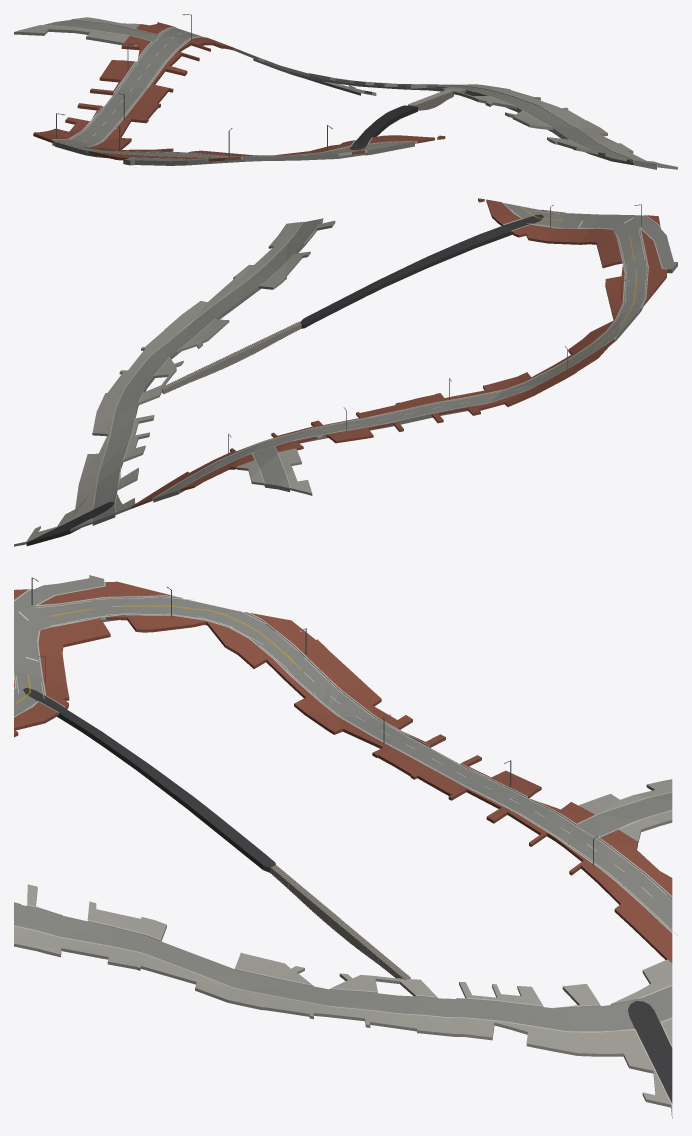
3 views of the same model, one above another, from view 1: azimuth 30°, elevation 25°; view 2: azimuth 150°, elevation 25°; view 3: azimuth 270°, elevation 25° (orthographic). The views are drawn at different scales.
Size of the model in its own units: 145 by 76.57 by 147.
